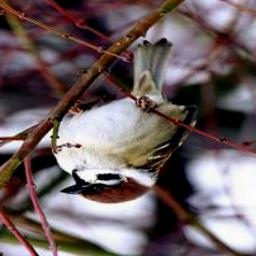Sparrow: (49, 40, 202, 204)
